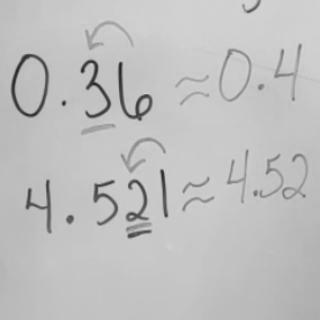.: (251, 78, 269, 98), (249, 185, 265, 201), (63, 209, 78, 226), (57, 93, 71, 110)
0: (11, 52, 50, 119), (216, 48, 252, 104)
1: (157, 167, 170, 217)
2: (282, 154, 311, 202), (127, 180, 151, 225)
3: (81, 59, 109, 119)
4: (26, 174, 58, 234), (274, 46, 304, 103), (227, 148, 252, 204)
5: (91, 181, 119, 230), (259, 151, 283, 200)
6: (116, 58, 155, 123)
